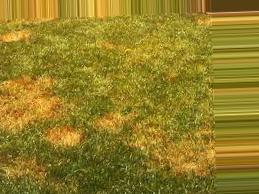patch: (14, 82, 52, 113), (165, 142, 209, 167), (52, 126, 81, 143), (101, 118, 128, 129)
